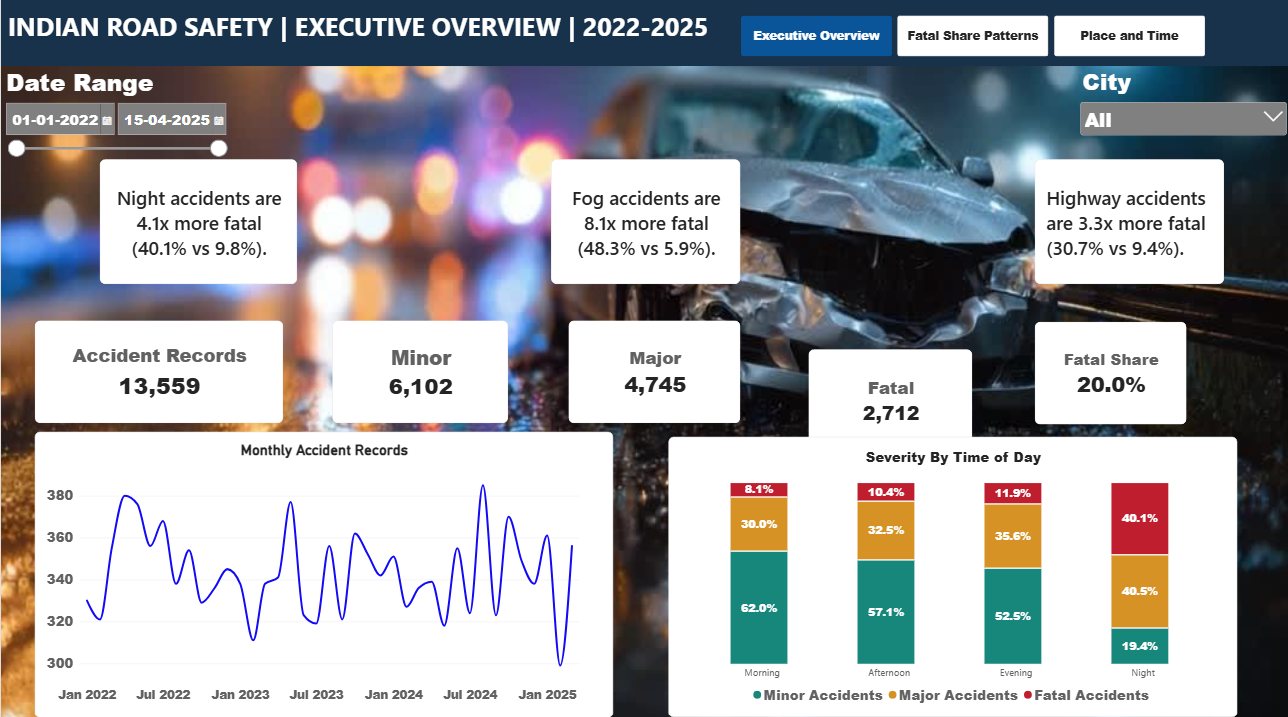

The dashboard page shown, as its layout file describes it:
{"tool":"powerbi","page":{"name":"Executive Overview","canvas":[1920,1080],"ordinal":0},"visuals":[{"type":"shape","box":[0,0,1920.1,101.3],"z":0},{"type":"textbox","box":[0,16.3,1056.8,206.3],"z":1000},{"type":"slicer","fields":{"Values":["Accidents.date"]},"box":[0,100.5,340.7,232.7],"z":2000},{"type":"slicer","fields":{"Values":["Accidents.city"]},"box":[1603.1,100.5,316.7,121.2],"z":3000},{"type":"cardVisual","fields":{"Data":["Accidents.Night Insight"]},"box":[146.6,240.7,295,186.4],"z":4000},{"type":"cardVisual","fields":{"Data":["Accidents.Fog Insight"]},"box":[819.8,240.7,282,186],"z":5000},{"type":"cardVisual","fields":{"Data":["Accidents.Highway Insight"]},"box":[1540,240.7,282,186.4],"z":6000},{"type":"cardVisual","fields":{"Data":["Accidents.Accidents Count"]},"box":[50.7,479.6,371,153.8],"z":7000},{"type":"cardVisual","fields":{"Data":["Accidents.Minor Accidents"]},"box":[494,479.6,262.4,153.8],"z":8000},{"type":"cardVisual","fields":{"Data":["Accidents.Major Accidents"]},"box":[845.1,479.6,257,153.8],"z":9000},{"type":"cardVisual","fields":{"Data":["Accidents.Fatal Accidents"]},"box":[1204.7,480.4,244.3,153.8],"z":10000},{"type":"cardVisual","fields":{"Data":["Accidents.Fatal Share"]},"box":[1540,481.4,226.2,153.8],"z":11000},{"type":"lineChart","title":"Monthly Accident Records","fields":{"Category":["Accidents.month_start."],"Y":["Accidents.Accidents Count"]},"box":[50.7,646,861.4,427.1],"z":12000},{"type":"hundredPercentStackedColumnChart","title":"Severity By Time of Day","fields":{"Category":["Accidents.time_of_day"],"Y":["Accidents.Minor Accidents","Accidents.Major Accidents","Accidents.Fatal Accidents"]},"box":[994.3,653.5,847.2,418.9],"z":13000},{"type":"pageNavigator","box":[1102.1,25.3,693.1,61.5],"z":14000}]}

Visuals, with their boxes in screenshot pixels (x1, y1, x2, y2), scaled from the page's 1920x1080 canvas onto the 1288x717 screenshot:
shape: [x1=0, y1=0, x2=1287, y2=67]
textbox: [x1=0, y1=11, x2=709, y2=148]
slicer - Accidents.date: [x1=0, y1=67, x2=229, y2=221]
slicer - Accidents.city: [x1=1075, y1=67, x2=1287, y2=147]
cardVisual - Accidents.Night Insight: [x1=98, y1=160, x2=296, y2=284]
cardVisual - Accidents.Fog Insight: [x1=550, y1=160, x2=739, y2=283]
cardVisual - Accidents.Highway Insight: [x1=1033, y1=160, x2=1222, y2=284]
cardVisual - Accidents.Accidents Count: [x1=34, y1=318, x2=283, y2=421]
cardVisual - Accidents.Minor Accidents: [x1=331, y1=318, x2=507, y2=421]
cardVisual - Accidents.Major Accidents: [x1=567, y1=318, x2=739, y2=421]
cardVisual - Accidents.Fatal Accidents: [x1=808, y1=319, x2=972, y2=421]
cardVisual - Accidents.Fatal Share: [x1=1033, y1=320, x2=1185, y2=422]
"Monthly Accident Records" lineChart: [x1=34, y1=429, x2=612, y2=712]
"Severity By Time of Day" hundredPercentStackedColumnChart: [x1=667, y1=434, x2=1235, y2=712]
pageNavigator: [x1=739, y1=17, x2=1204, y2=58]
